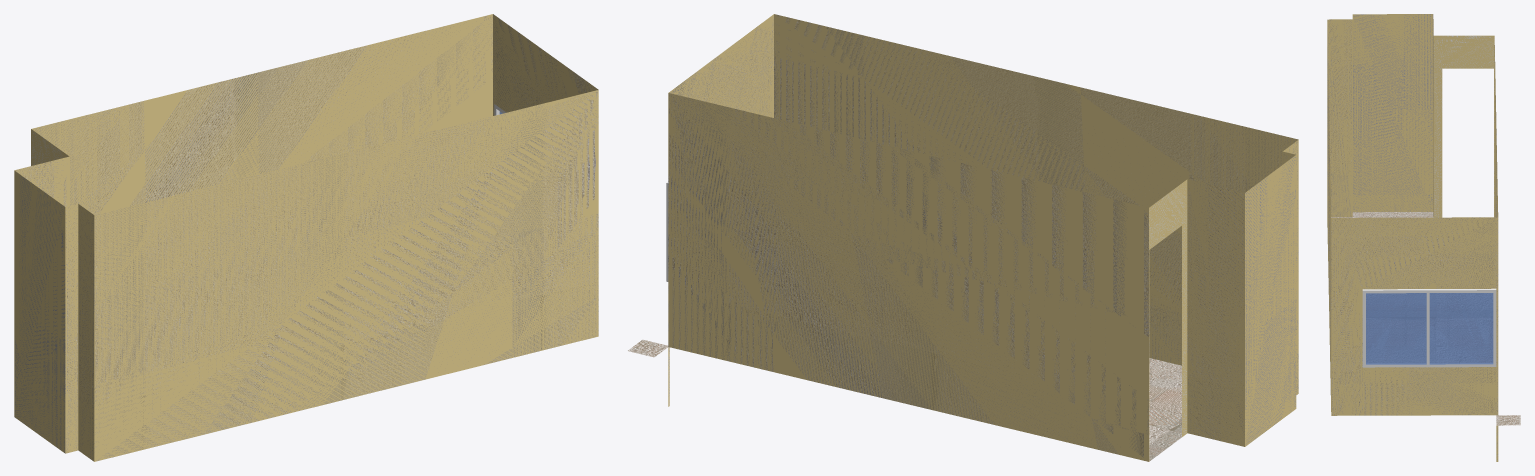
Rendered from DES004.obj.
3 renders of one model, left to right at view 1: azimuth 30°, elevation 25°; view 2: azimuth 150°, elevation 25°; view 3: azimuth 270°, elevation 25°, orthographic. The views are drawn at different scales.
Visible parts, largest first — view 1: Mesh6 DES004 Model; view 2: Mesh6 DES004 Model; view 3: Mesh6 DES004 Model, Mesh1 ventana2_1 DES004 Model.
Boxes of the visible parts, bbox=[...] form: Mesh6 DES004 Model: bbox=[14, 14, 598, 461]; Mesh6 DES004 Model: bbox=[628, 14, 1298, 461]; Mesh6 DES004 Model: bbox=[1327, 14, 1520, 461]; Mesh1 ventana2_1 DES004 Model: bbox=[1362, 288, 1496, 367].
Size of the model in its own units: 8.33 by 4.45 by 3.19.
8 materials, 2 textured.
